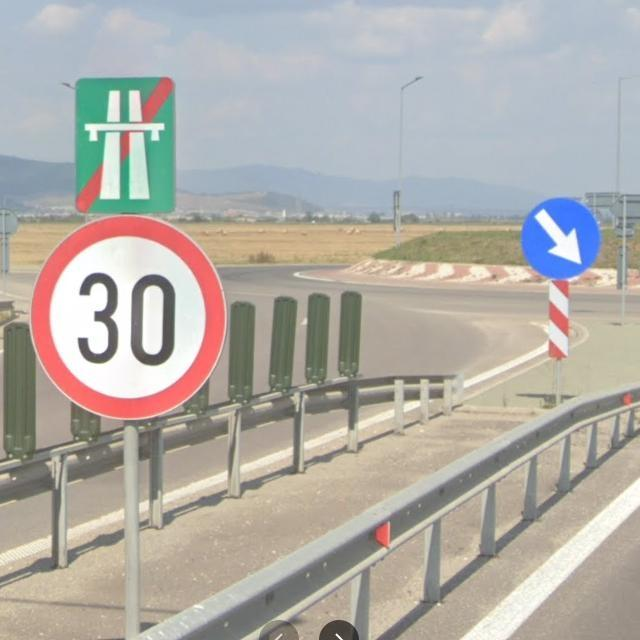forb_speed_over_30: (27, 216, 229, 422)
